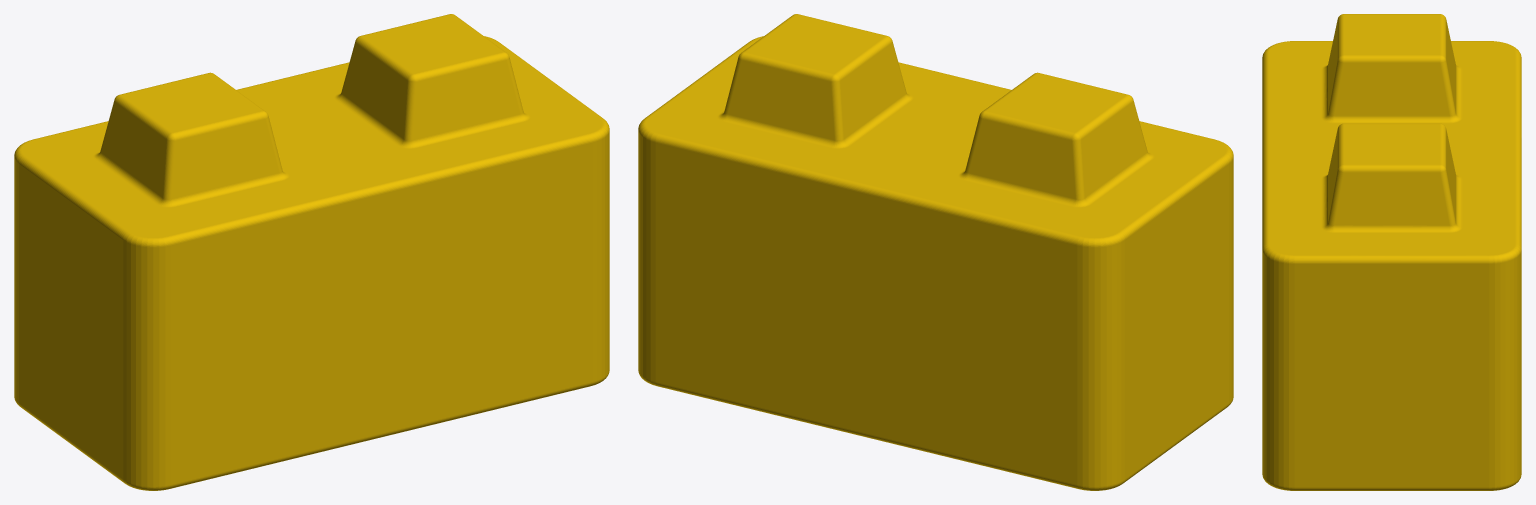
The model's file is Block.fbx.
3 views of the same model, side by side, from view 1: azimuth 30°, elevation 25°; view 2: azimuth 150°, elevation 25°; view 3: azimuth 270°, elevation 25° (orthographic). The views are drawn at different scales.
Parts seen in each view (by area): view 1: am-4018 Stone; view 2: am-4018 Stone; view 3: am-4018 Stone.
Boxes of the visible parts, x1,y1,x2,y2 form: am-4018 Stone: (14,14,609,490); am-4018 Stone: (638,14,1233,490); am-4018 Stone: (1262,14,1521,490).
Size of the model in its own units: 20.32 by 12.7 by 10.16.
